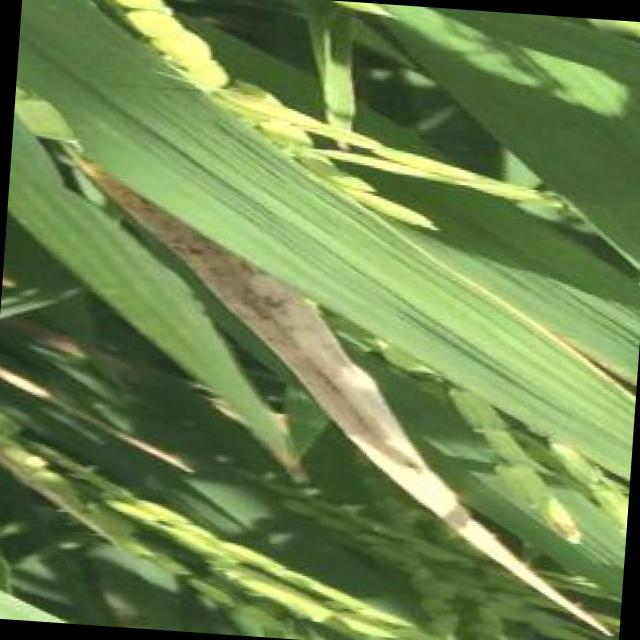Rice_Bacterial_Blight: (320, 361, 440, 476)
